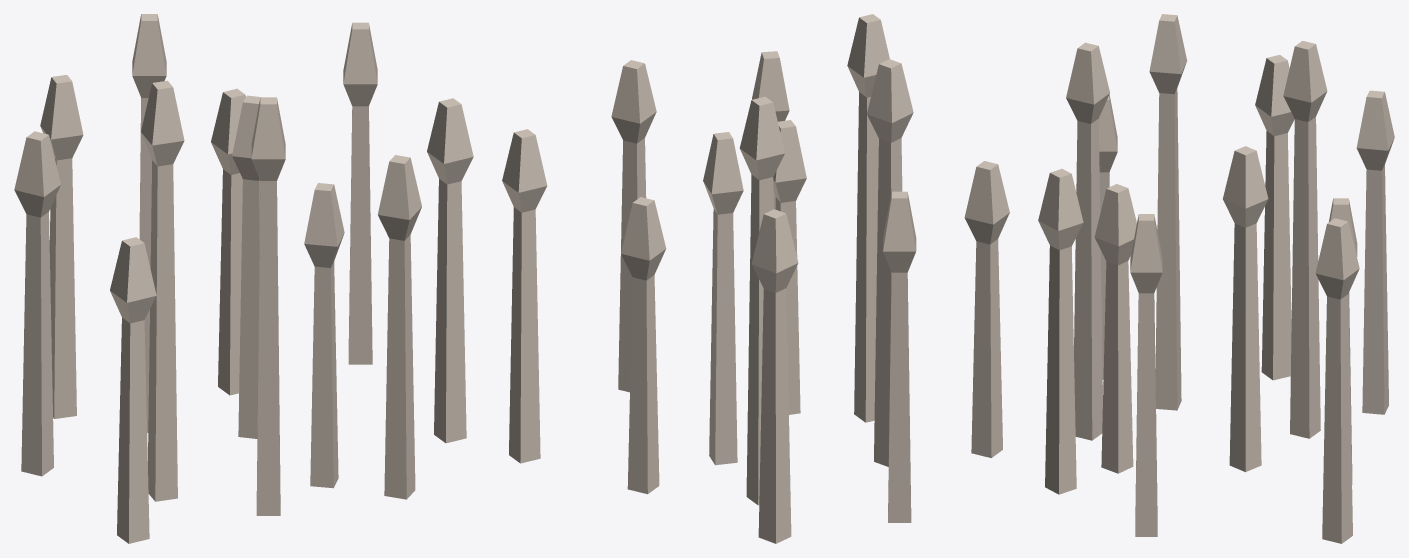
The picture shows the model from 3 angles, left to right: view 1: azimuth 30°, elevation 25°; view 2: azimuth 150°, elevation 25°; view 3: azimuth 270°, elevation 25°; orthographic projection. The views are drawn at different scales.
Parts seen in each view (by area): view 1: crops_wheatStageB; view 2: crops_wheatStageB; view 3: crops_wheatStageB.
Boxes of the visible parts, x1,y1,x2,y2 form: crops_wheatStageB: (14, 14, 473, 543); crops_wheatStageB: (502, 14, 1009, 543); crops_wheatStageB: (1038, 14, 1394, 543).
Bounding box in the file's own units: 0.5396 × 0.5349 × 0.4467.
